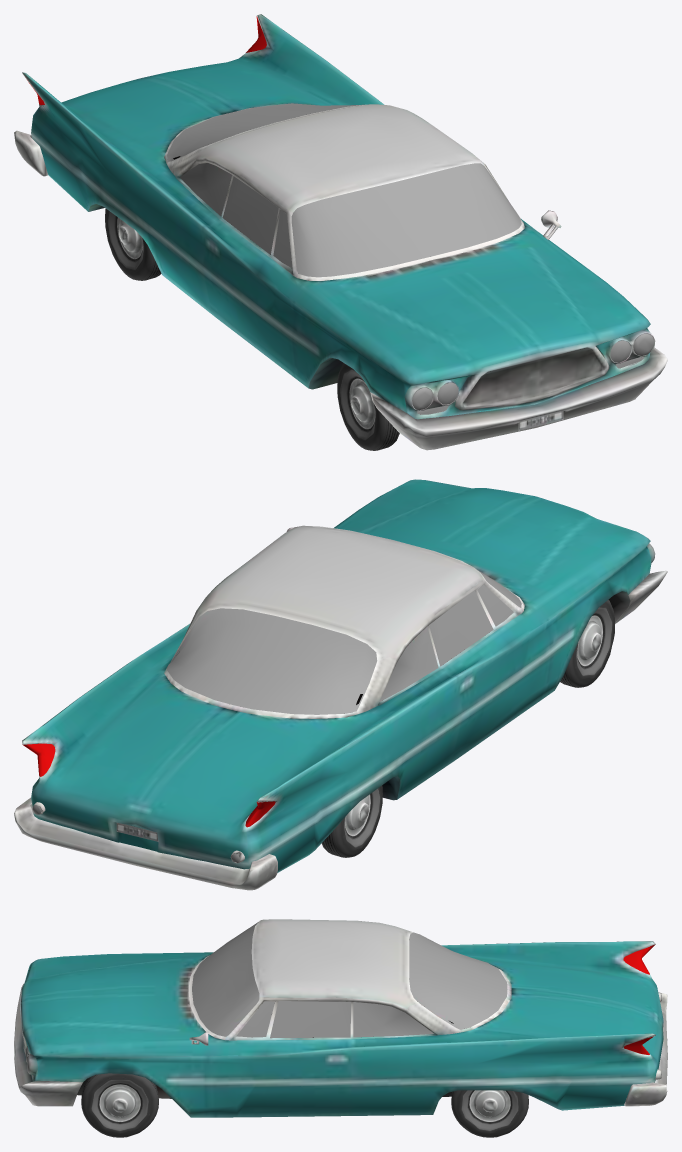
The model's file is sedan-b.glb.
The picture shows the model from 3 angles, top to bottom: view 1: azimuth 30°, elevation 25°; view 2: azimuth 150°, elevation 25°; view 3: azimuth 270°, elevation 25°; orthographic projection. The views are drawn at different scales.
Parts seen in each view (by area): view 1: Object_3, Object_4, Object_2; view 2: Object_3, Object_4, Object_2; view 3: Object_3, Object_4, Object_2.
Boxes of the visible parts, box(x1,y1,x2,y2) form: Object_3: box(14, 14, 667, 450); Object_4: box(27, 16, 654, 414); Object_2: box(105, 208, 399, 450); Object_3: box(14, 479, 667, 890); Object_4: box(22, 570, 521, 862); Object_2: box(321, 600, 614, 857); Object_3: box(14, 919, 667, 1117); Object_4: box(26, 922, 661, 1077); Object_2: box(81, 1073, 528, 1137).
Bounding box in the file's own units: 216 × 140 × 573.
3 materials, 3 textured.
